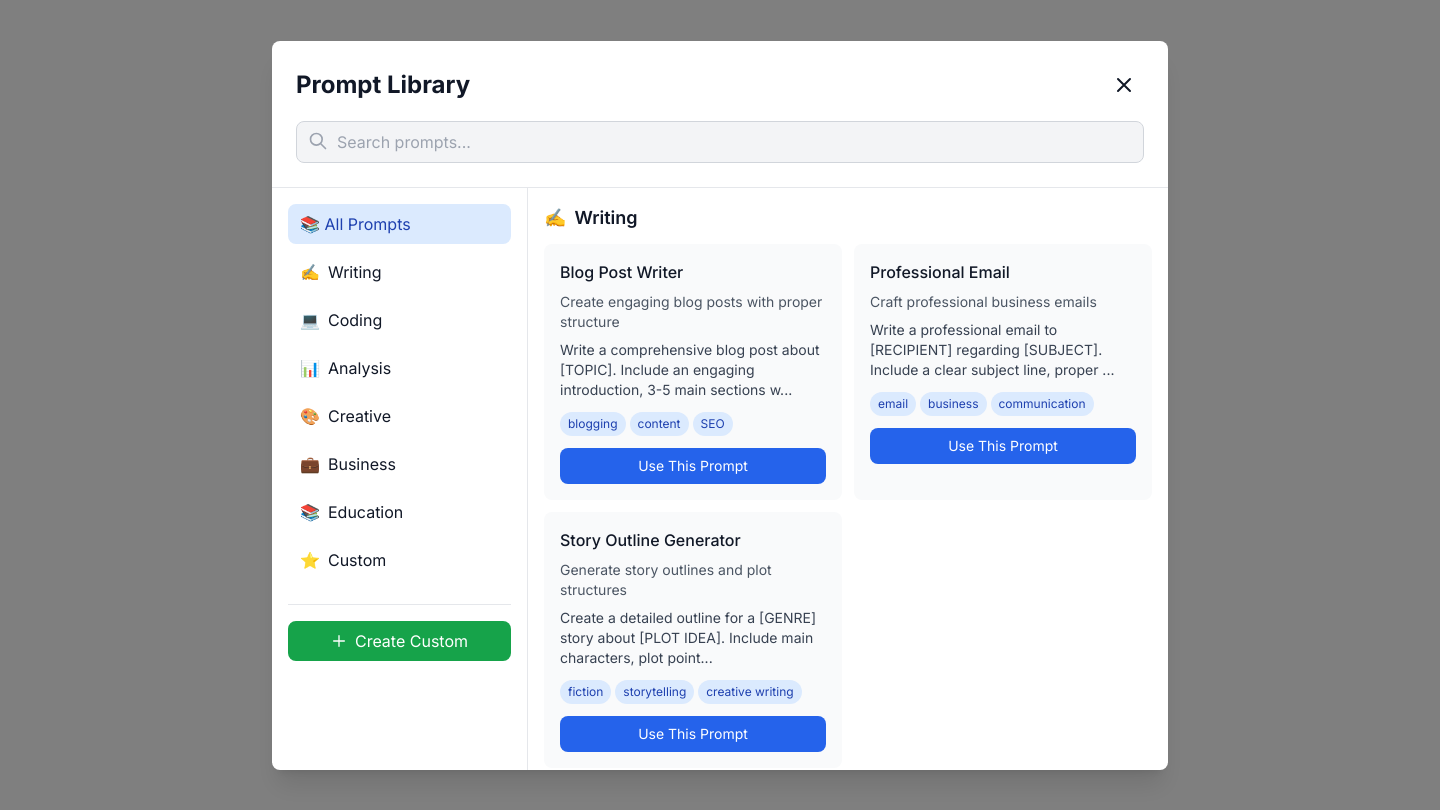
PromptLibrary › disables create button when form is incomplete
Click the button "Create Custom" at coordinates (400, 640), box [288, 620, 511, 660]
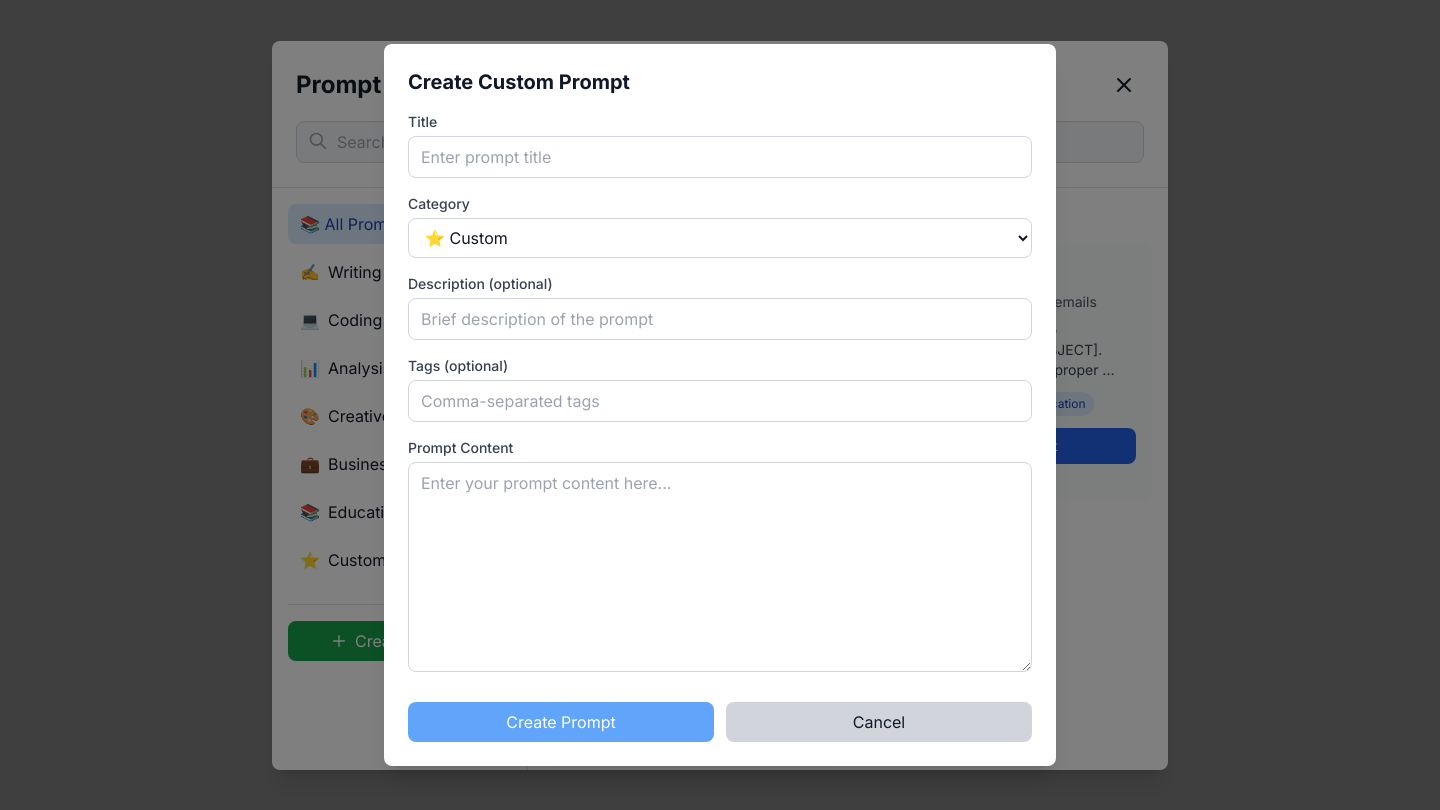
expect the button "Create Prompt" is disabled: met, box [408, 702, 714, 742]
Note: Fill title but not content
Type "Test Title" into the field with placeholder "Enter prompt title" at coordinates (720, 157), box [408, 136, 1032, 178]
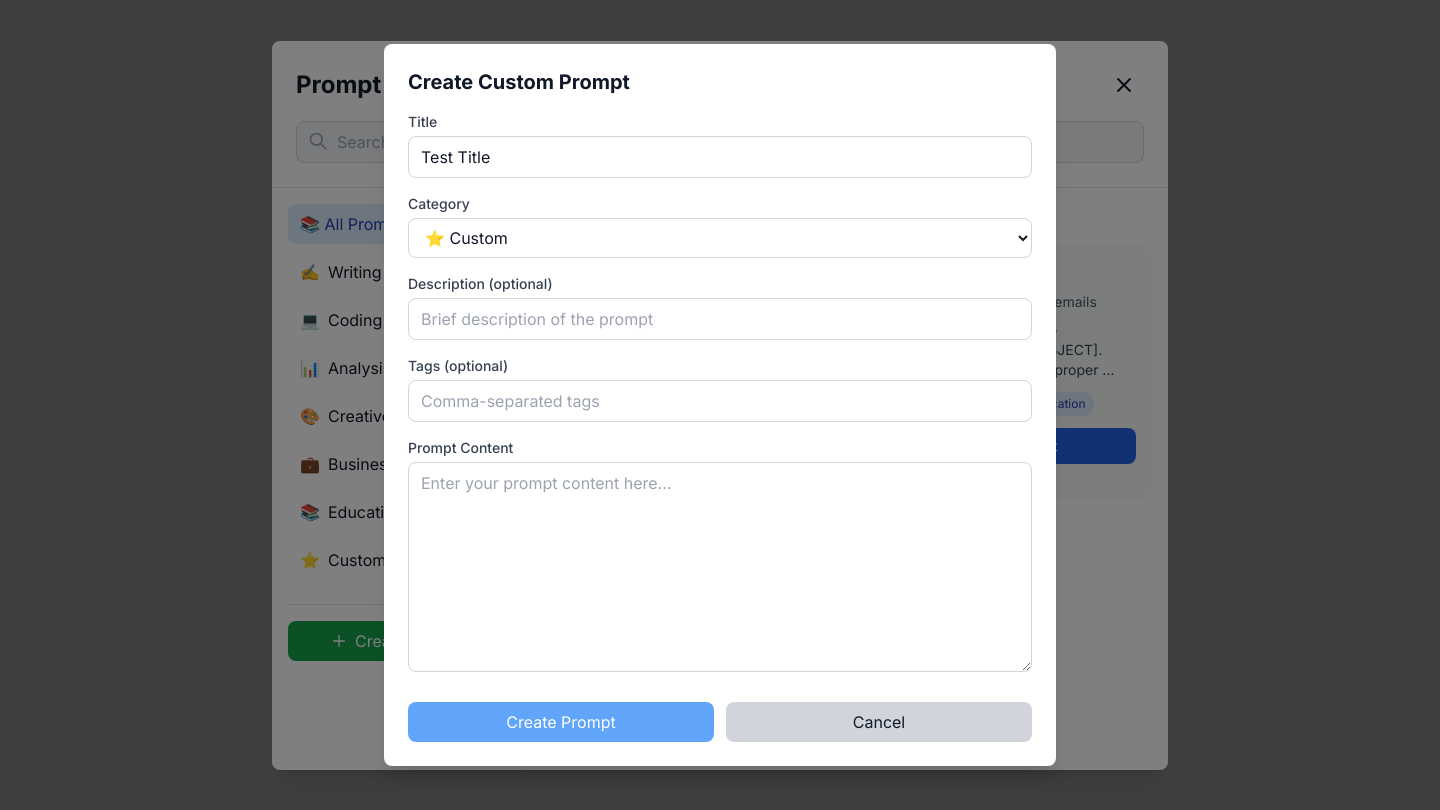
expect the button "Create Prompt" is disabled: met, box [408, 702, 714, 742]
Note: Fill content
Type "Test content" into the text box with placeholder "Enter your prompt content here..." at coordinates (720, 567), box [408, 462, 1032, 672]
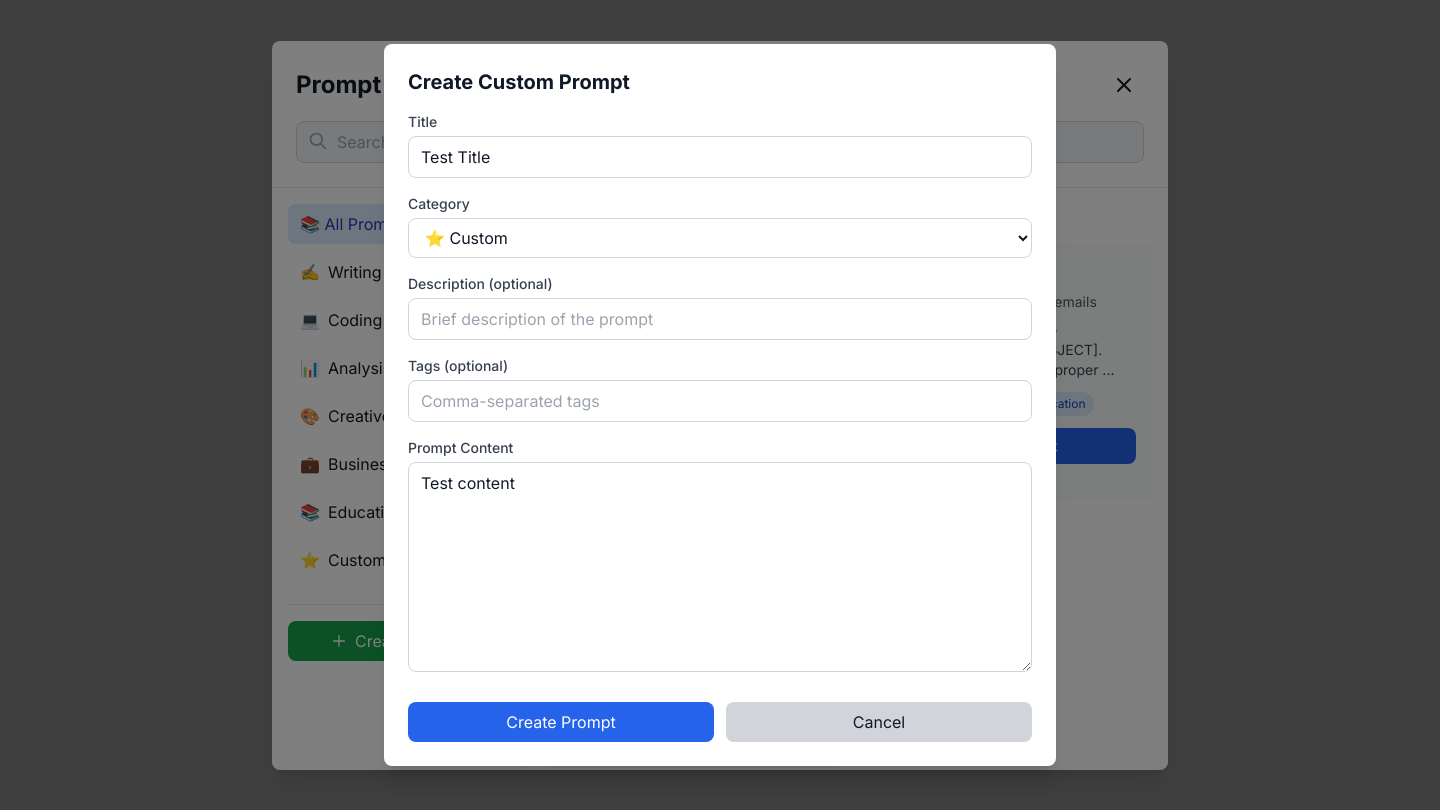
expect the button "Create Prompt" is enabled: met, box [408, 702, 714, 742]
